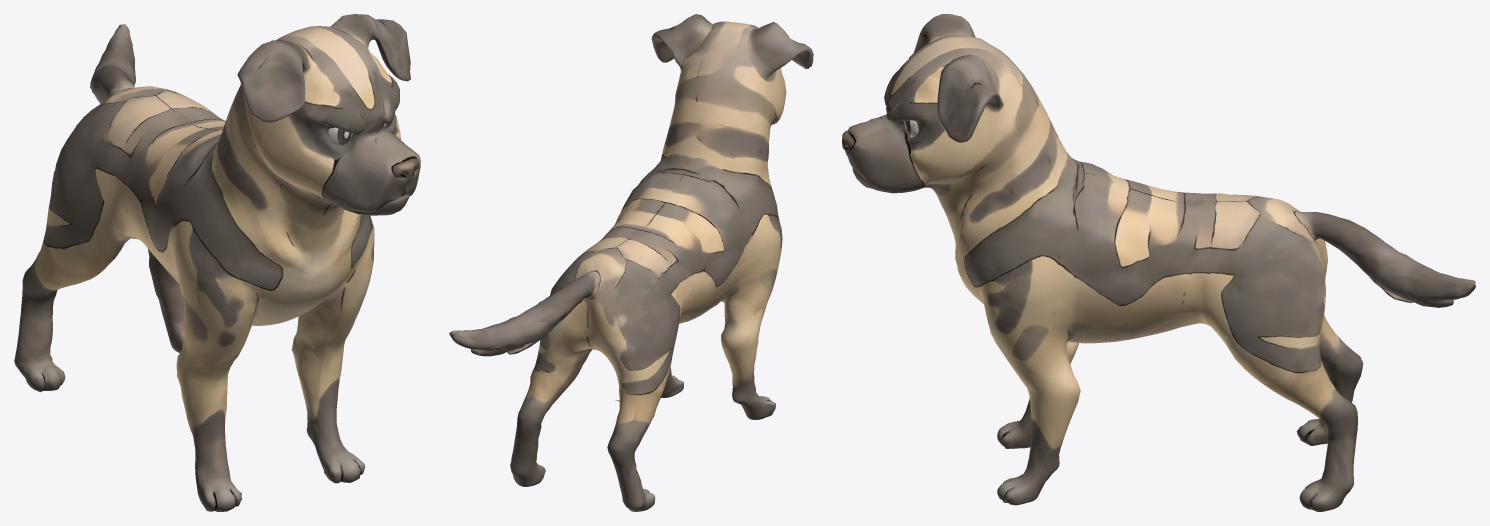
The picture shows the model from 3 angles, left to right: view 1: azimuth 30°, elevation 25°; view 2: azimuth 150°, elevation 25°; view 3: azimuth 270°, elevation 25°; orthographic projection. The views are drawn at different scales.
Visible parts, largest first — view 1: geometry_0; view 2: geometry_0; view 3: geometry_0.
Part boxes in pixels (x1,y1,x2,y2): geometry_0: [14, 14, 420, 511]; geometry_0: [449, 14, 813, 511]; geometry_0: [842, 14, 1475, 511].
Bounding box in the file's own units: 0.3042 × 0.7319 × 0.957.
1 material, 1 textured.
